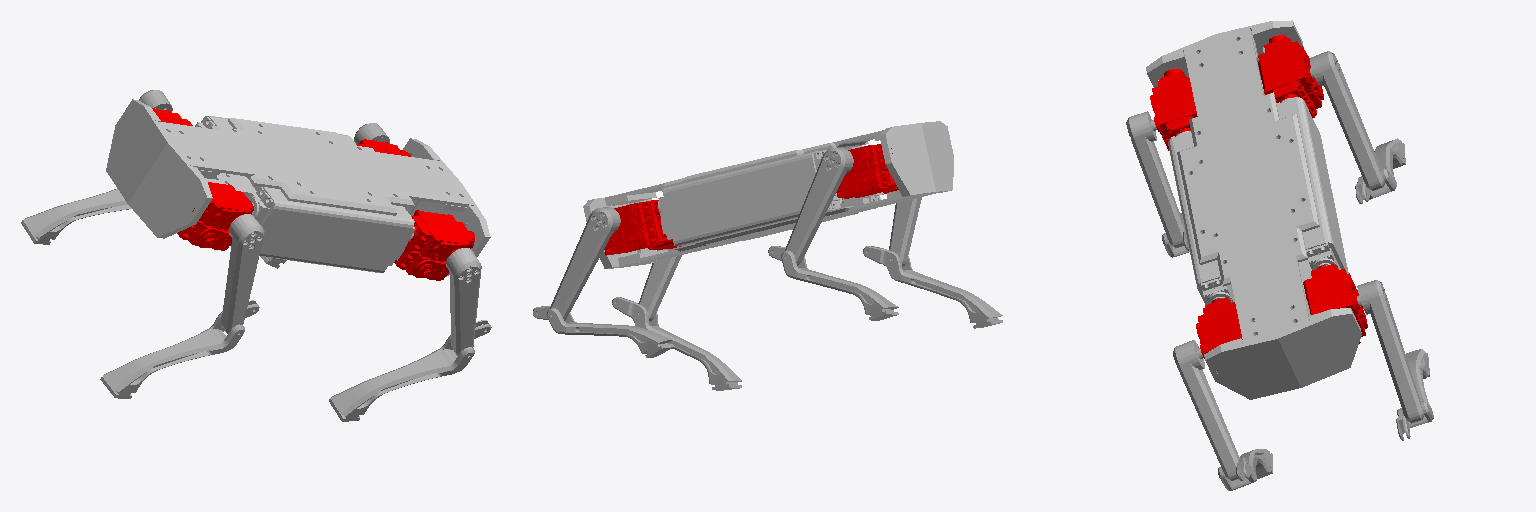
robot.urdf — final:
<?xml version="1.0" encoding="utf-8"?>
<!-- This URDF was automatically created by SolidWorks to URDF Exporter! Originally created by Stephen Brawner (brawner@gmail.com) 
     Commit Version: 1.6.0-4-g7f85cfe  Build Version: 1.6.7995.38578
     For more information, please see http://wiki.ros.org/sw_urdf_exporter -->
<robot
  name="final">
  <link
    name="base_link">
    <inertial>
      <origin
        xyz="0.165469810038744 -0.470844613530659 0.264323367068224"
        rpy="0 0 0" />
      <mass
        value="0.326547449294338" />
      <inertia
        ixx="0.00022012543357599"
        ixy="-3.25157823040541E-05"
        ixz="8.53231325640009E-05"
        iyy="0.000389271626814517"
        iyz="4.17514131573423E-06"
        izz="0.000383572282492682" />
    </inertial>
    <visual>
      <origin
        xyz="0 0 0"
        rpy="0 0 0" />
      <geometry>
        <mesh
          filename="package://final/meshes/base_link.STL" />
      </geometry>
      <material
        name="">
        <color
          rgba="0.8 0.8 0.8 1" />
      </material>
    </visual>
    <collision>
      <origin
        xyz="0 0 0"
        rpy="0 0 0" />
      <geometry>
        <mesh
          filename="package://final/meshes/base_link.STL" />
      </geometry>
    </collision>
  </link>
  <link
    name="hip_LF">
    <inertial>
      <origin
        xyz="0.0104971925588967 0.00114288562998305 0.0298079595716109"
        rpy="0 0 0" />
      <mass
        value="0.0691270861873928" />
      <inertia
        ixx="1.61613061385546E-05"
        ixy="4.07103755748429E-08"
        ixz="4.24918568404357E-08"
        iyy="1.14976725928124E-05"
        iyz="3.77855287804916E-10"
        izz="1.03221377280626E-05" />
    </inertial>
    <visual>
      <origin
        xyz="0 0 0"
        rpy="0 0 0" />
      <geometry>
        <mesh
          filename="package://final/meshes/hip_LF.STL" />
      </geometry>
      <material
        name="">
        <color
          rgba="1 0 0 1" />
      </material>
    </visual>
    <collision>
      <origin
        xyz="0 0 0"
        rpy="0 0 0" />
      <geometry>
        <mesh
          filename="package://final/meshes/hip_LF.STL" />
      </geometry>
    </collision>
  </link>
  <joint
    name="Joint1_LF"
    type="revolute">
    <origin
      xyz="0.0828037089815861 -0.530142263822002 0.293885901306255"
      rpy="-0.705882033003174 1.04313880299812 2.52448464320818" />
    <parent
      link="base_link" />
    <child
      link="hip_LF" />
    <axis
      xyz="0 0 1" />
    <limit
      lower="-1.57"
      upper="1.57"
      effort="1.5"
      velocity="6" />
  </joint>
  <link
    name="Thigh_LF">
    <inertial>
      <origin
        xyz="0.036049231921557 0.0174653680299302 0.0104420538930677"
        rpy="0 0 0" />
      <mass
        value="0.0136519262084262" />
      <inertia
        ixx="3.31852020596152E-06"
        ixy="-5.38341455745804E-06"
        ixz="-2.00095276413535E-07"
        iyy="1.18219158680877E-05"
        iyz="-9.69435485882886E-08"
        izz="1.46391765955793E-05" />
    </inertial>
    <visual>
      <origin
        xyz="0 0 0"
        rpy="0 0 0" />
      <geometry>
        <mesh
          filename="package://final/meshes/Thigh_LF.STL" />
      </geometry>
      <material
        name="">
        <color
          rgba="0.752941176470588 0.752941176470588 0.752941176470588 1" />
      </material>
    </visual>
    <collision>
      <origin
        xyz="0 0 0"
        rpy="0 0 0" />
      <geometry>
        <mesh
          filename="package://final/meshes/Thigh_LF.STL" />
      </geometry>
    </collision>
  </link>
  <joint
    name="Joint2_LF"
    type="revolute">
    <origin
      xyz="-0.000103830202143829 0.0255001128999754 0.0199"
      rpy="-1.5707963267949 0 0.00911492757548553" />
    <parent
      link="hip_LF" />
    <child
      link="Thigh_LF" />
    <axis
      xyz="0 0 1" />
    <limit
      lower="-1.57"
      upper="1.57"
      effort="1.5"
      velocity="6" />
  </joint>
  <link
    name="Calf_LF">
    <inertial>
      <origin
        xyz="0.0401260987407683 -0.0414799951379243 -0.00647647599601348"
        rpy="0 0 0" />
      <mass
        value="0.00886599216069645" />
      <inertia
        ixx="9.68776339211572E-06"
        ixy="7.17637478350545E-06"
        ixz="-1.47510177478865E-06"
        iyy="6.79566543555589E-06"
        iyz="1.75269858466389E-06"
        izz="1.51091944254587E-05" />
    </inertial>
    <visual>
      <origin
        xyz="0 0 0"
        rpy="0 0 0" />
      <geometry>
        <mesh
          filename="package://final/meshes/Calf_LF.STL" />
      </geometry>
      <material
        name="">
        <color
          rgba="0.698039215686274 0.698039215686274 0.698039215686274 1" />
      </material>
    </visual>
    <collision>
      <origin
        xyz="0 0 0"
        rpy="0 0 0" />
      <geometry>
        <mesh
          filename="package://final/meshes/Calf_LF.STL" />
      </geometry>
    </collision>
  </link>
  <joint
    name="Joint3_LF"
    type="revolute">
    <origin
      xyz="0.0899941947746462 0.0436009736916917 0.0238999999999975"
      rpy="0.155925725989217 0.0091149275754857 0" />
    <parent
      link="Thigh_LF" />
    <child
      link="Calf_LF" />
    <axis
      xyz="0.00911480136175463 -0.155288209919299 -0.987827157075667" />
    <limit
      lower="-1.57"
      upper="1.57"
      effort="1.5"
      velocity="6" />
  </joint>
  <link
    name="hip_LB">
    <inertial>
      <origin
        xyz="0.0105579816568965 -0.000156117223233665 0.0298079671863085"
        rpy="0 0 0" />
      <mass
        value="0.0691271473745254" />
      <inertia
        ixx="1.61287699978789E-05"
        ixy="3.90314406760061E-07"
        ixz="4.23415723559279E-08"
        iyy="1.15302191337999E-05"
        iyz="3.57533857898668E-09"
        izz="1.03221482000155E-05" />
    </inertial>
    <visual>
      <origin
        xyz="0 0 0"
        rpy="0 0 0" />
      <geometry>
        <mesh
          filename="package://final/meshes/hip_LB.STL" />
      </geometry>
      <material
        name="">
        <color
          rgba="1 0 0 1" />
      </material>
    </visual>
    <collision>
      <origin
        xyz="0 0 0"
        rpy="0 0 0" />
      <geometry>
        <mesh
          filename="package://final/meshes/hip_LB.STL" />
      </geometry>
    </collision>
  </link>
  <joint
    name="Joint1_LB"
    type="revolute">
    <origin
      xyz="0.256926339687758 -0.50176821300437 0.220696871077039"
      rpy="2.43571062058662 1.04313880299812 2.52448464320818" />
    <parent
      link="base_link" />
    <child
      link="hip_LB" />
    <axis
      xyz="0 0 1" />
    <limit
      lower="-1.57"
      upper="1.57"
      effort="1.5"
      velocity="6" />
  </joint>
  <link
    name="Thigh_LB">
    <inertial>
      <origin
        xyz="0.0326193945591627 0.0232499739951309 0.0104420540124198"
        rpy="0 0 0" />
      <mass
        value="0.0136519260871885" />
      <inertia
        ixx="5.33231907163393E-06"
        ixy="-6.48458904036276E-06"
        ixz="-1.81057556490647E-07"
        iyy="9.80811696276222E-06"
        iyz="-1.29051654755524E-07"
        izz="1.46391765553137E-05" />
    </inertial>
    <visual>
      <origin
        xyz="0 0 0"
        rpy="0 0 0" />
      <geometry>
        <mesh
          filename="package://final/meshes/Thigh_LB.STL" />
      </geometry>
      <material
        name="">
        <color
          rgba="0.752941176470588 0.752941176470588 0.752941176470588 1" />
      </material>
    </visual>
    <collision>
      <origin
        xyz="0 0 0"
        rpy="0 0 0" />
      <geometry>
        <mesh
          filename="package://final/meshes/Thigh_LB.STL" />
      </geometry>
    </collision>
  </link>
  <joint
    name="Joint2_LB"
    type="revolute">
    <origin
      xyz="0.0022793837699181 -0.0253982468305898 0.0398999999999235"
      rpy="1.5707963267949 0 0.0844627326260078" />
    <parent
      link="hip_LB" />
    <child
      link="Thigh_LB" />
    <axis
      xyz="0 0 1" />
    <limit
      lower="-1.57"
      upper="1.57"
      effort="1.5"
      velocity="6" />
  </joint>
  <link
    name="Calf_LB">
    <inertial>
      <origin
        xyz="0.0434144582663147 -0.0362416645314376 -0.0132047342874759"
        rpy="0 0 0" />
      <mass
        value="0.00886599097543363" />
      <inertia
        ixx="8.35490060908495E-06"
        ixy="7.49156789837758E-06"
        ixz="-3.18145822091588E-07"
        iyy="7.7854842397686E-06"
        iyz="2.98859091222109E-07"
        izz="1.54522350147211E-05" />
    </inertial>
    <visual>
      <origin
        xyz="0 0 0"
        rpy="0 0 0" />
      <geometry>
        <mesh
          filename="package://final/meshes/Calf_LB.STL" />
      </geometry>
      <material
        name="">
        <color
          rgba="0.698039215686274 0.698039215686274 0.698039215686274 1" />
      </material>
    </visual>
    <collision>
      <origin
        xyz="0 0 0"
        rpy="0 0 0" />
      <geometry>
        <mesh
          filename="package://final/meshes/Calf_LB.STL" />
      </geometry>
    </collision>
  </link>
  <joint
    name="Joint3_LB"
    type="revolute">
    <origin
      xyz="0.0814318625004756 0.0580418106742034 0.0239000001006261"
      rpy="0 0 0" />
    <parent
      link="Thigh_LB" />
    <child
      link="Calf_LB" />
    <axis
      xyz="0 0 1" />
    <limit
      lower="-1.57"
      upper="1.57"
      effort="1.5"
      velocity="6" />
  </joint>
  <link
    name="hip_RB">
    <inertial>
      <origin
        xyz="0.0105152983393906 0.000962152057977783 0.0298079667384993"
        rpy="0 0 0" />
      <mass
        value="0.0691271481987827" />
      <inertia
        ixx="1.61613287839617E-05"
        ixy="-3.95223532318152E-08"
        ixz="4.24921379767024E-08"
        iyy="1.14976603948052E-05"
        iyz="-3.53079302811498E-10"
        izz="1.03221482475351E-05" />
    </inertial>
    <visual>
      <origin
        xyz="0 0 0"
        rpy="0 0 0" />
      <geometry>
        <mesh
          filename="package://final/meshes/hip_RB.STL" />
      </geometry>
      <material
        name="">
        <color
          rgba="1 0 0 1" />
      </material>
    </visual>
    <collision>
      <origin
        xyz="0 0 0"
        rpy="0 0 0" />
      <geometry>
        <mesh
          filename="package://final/meshes/hip_RB.STL" />
      </geometry>
    </collision>
  </link>
  <joint
    name="Joint1_RB"
    type="revolute">
    <origin
      xyz="0.255423331114134 -0.416717792411357 0.250093587257239"
      rpy="2.43571062058662 1.04313880299812 2.52448464320818" />
    <parent
      link="base_link" />
    <child
      link="hip_RB" />
    <axis
      xyz="0 0 1" />
    <limit
      lower="-1.57"
      upper="1.57"
      effort="1.5"
      velocity="6" />
  </joint>
  <link
    name="Thigh_RB">
    <inertial>
      <origin
        xyz="-0.0297626679191992 0.0268098822119125 0.0104420535448091"
        rpy="0 0 0" />
      <mass
        value="0.0136519260994359" />
      <inertia
        ixx="6.8560637163697E-06"
        ixy="6.82261464884229E-06"
        ixz="1.65201136341496E-07"
        iyy="8.28437233088175E-06"
        iyz="-1.48811299803602E-07"
        izz="1.46391765371017E-05" />
    </inertial>
    <visual>
      <origin
        xyz="0 0 0"
        rpy="0 0 0" />
      <geometry>
        <mesh
          filename="package://final/meshes/Thigh_RB.STL" />
      </geometry>
      <material
        name="">
        <color
          rgba="0.698039215686274 0.698039215686274 0.698039215686274 1" />
      </material>
    </visual>
    <collision>
      <origin
        xyz="0 0 0"
        rpy="0 0 0" />
      <geometry>
        <mesh
          filename="package://final/meshes/Thigh_RB.STL" />
      </geometry>
    </collision>
  </link>
  <joint
    name="Joint2_RB"
    type="revolute">
    <origin
      xyz="0.000334819020600619 0.0254981261046049 0.039899999999996"
      rpy="1.57079632679489 0 3.13350548107536" />
    <parent
      link="hip_RB" />
    <child
      link="Thigh_RB" />
    <axis
      xyz="0 0 1" />
    <limit
      lower="-1.57"
      upper="1.57"
      effort="1.5"
      velocity="6" />
  </joint>
  <link
    name="Calf_RB">
    <inertial>
      <origin
        xyz="-0.0280790707628065 -0.0490900191801899 -0.0132047471017608"
        rpy="0 0 0" />
      <mass
        value="0.00886600238835247" />
      <inertia
        ixx="1.3176333780791E-05"
        ixy="-5.4892896357985E-06"
        ixz="1.94184703758847E-07"
        iyy="2.96407841651688E-06"
        iyz="3.90936953356937E-07"
        izz="1.54522604831644E-05" />
    </inertial>
    <visual>
      <origin
        xyz="0 0 0"
        rpy="0 0 0" />
      <geometry>
        <mesh
          filename="package://final/meshes/Calf_RB.STL" />
      </geometry>
      <material
        name="">
        <color
          rgba="0.698039215686274 0.698039215686274 0.698039215686274 1" />
      </material>
    </visual>
    <collision>
      <origin
        xyz="0 0 0"
        rpy="0 0 0" />
      <geometry>
        <mesh
          filename="package://final/meshes/Calf_RB.STL" />
      </geometry>
    </collision>
  </link>
  <joint
    name="Joint3_RB"
    type="revolute">
    <origin
      xyz="-0.0743002608384791 0.0669288520694507 0.0238999999999875"
      rpy="0 0 0" />
    <parent
      link="Thigh_RB" />
    <child
      link="Calf_RB" />
    <axis
      xyz="0 0 -1" />
    <limit
      lower="-1.57"
      upper="1.57"
      effort="1.5"
      velocity="6" />
  </joint>
  <link
    name="hip_RF">
    <inertial>
      <origin
        xyz="0.010399792151054 -0.00182747251492799 0.0298079563673649"
        rpy="0 0 0" />
      <mass
        value="0.0691270910624313" />
      <inertia
        ixx="1.61354149977582E-05"
        ixy="-3.48903802393308E-07"
        ixz="4.23730758507651E-08"
        iyy="1.15235643994676E-05"
        iyz="-3.18055827200527E-09"
        izz="1.03221383682477E-05" />
    </inertial>
    <visual>
      <origin
        xyz="0 0 0"
        rpy="0 0 0" />
      <geometry>
        <mesh
          filename="package://final/meshes/hip_RF.STL" />
      </geometry>
      <material
        name="">
        <color
          rgba="1 0 0 1" />
      </material>
    </visual>
    <collision>
      <origin
        xyz="0 0 0"
        rpy="0 0 0" />
      <geometry>
        <mesh
          filename="package://final/meshes/hip_RF.STL" />
      </geometry>
    </collision>
  </link>
  <joint
    name="Joint1_RF"
    type="revolute">
    <origin
      xyz="0.081301 -0.44509 0.32328"
      rpy="-0.70588 1.0431 2.5245" />
    <parent
      link="base_link" />
    <child
      link="hip_RF" />
    <axis
      xyz="0 0 1" />
    <limit
      lower="-1.57"
      upper="1.57"
      effort="1.5"
      velocity="6" />
  </joint>
  <link
    name="Thigh_RF">
    <inertial>
      <origin
        xyz="0.0312504715443228 -0.025059812769555 0.0104420535390137"
        rpy="0 0 0" />
      <mass
        value="0.0136519260754069" />
      <inertia
        ixx="6.07990050362183E-06"
        ixy="6.69604664888914E-06"
        ixz="-1.73459359160551E-07"
        iyy="9.06053553528023E-06"
        iyz="1.39097339273018E-07"
        izz="1.46391765281475E-05" />
    </inertial>
    <visual>
      <origin
        xyz="0 0 0"
        rpy="0 0 0" />
      <geometry>
        <mesh
          filename="package://final/meshes/Thigh_RF.STL" />
      </geometry>
      <material
        name="">
        <color
          rgba="0.698039215686274 0.698039215686274 0.698039215686274 1" />
      </material>
    </visual>
    <collision>
      <origin
        xyz="0 0 0"
        rpy="0 0 0" />
      <geometry>
        <mesh
          filename="package://final/meshes/Thigh_RF.STL" />
      </geometry>
    </collision>
  </link>
  <joint
    name="Joint2_RF"
    type="revolute">
    <origin
      xyz="-0.0017748 -0.025438 0.0199"
      rpy="1.5708 0 -0.074698" />
    <parent
      link="hip_RF" />
    <child
      link="Thigh_RF" />
    <axis
      xyz="0 0 1" />
    <limit
      lower="-1.57"
      upper="1.57"
      effort="1.5"
      velocity="6" />
  </joint>
  <link
    name="Calf_RF">
    <inertial>
      <origin
        xyz="0.037086446197333 0.0426949252378612 -0.0132047524388045"
        rpy="0 0 0" />
      <mass
        value="0.00886601403821361" />
      <inertia
        ixx="1.06969039301481E-05"
        ixy="-7.0217852884141E-06"
        ixz="-2.6647888676383E-07"
        iyy="5.44352564282259E-06"
        iyz="-3.45732127944208E-07"
        izz="1.54522763111769E-05" />
    </inertial>
    <visual>
      <origin
        xyz="0 0 0"
        rpy="0 0 0" />
      <geometry>
        <mesh
          filename="package://final/meshes/Calf_RF.STL" />
      </geometry>
      <material
        name="">
        <color
          rgba="0.698039215686274 0.698039215686274 0.698039215686274 1" />
      </material>
    </visual>
    <collision>
      <origin
        xyz="0 0 0"
        rpy="0 0 0" />
      <geometry>
        <mesh
          filename="package://final/meshes/Calf_RF.STL" />
      </geometry>
    </collision>
  </link>
  <joint
    name="Joint3_RF"
    type="revolute">
    <origin
      xyz="0.078014 -0.06256 0.0239"
      rpy="0 0 0" />
    <parent
      link="Thigh_RF" />
    <child
      link="Calf_RF" />
    <axis
      xyz="0 0 -1" />
    <limit
      lower="-1.57"
      upper="1.57"
      effort="1.5"
      velocity="6" />
  </joint>
</robot>

--- Facts derived from the render (not from the file) ---
The picture shows the robot from 3 angles, left to right: view 1: azimuth 30°, elevation 25°; view 2: azimuth 150°, elevation 25°; view 3: azimuth 270°, elevation 25°; orthographic projection.
Model final with 13 links and 12 joints (12 revolute), rooted at base_link, posed every joint at zero.
Visible links, largest first — view 1: base_link, Calf_LB, Calf_LF, hip_LB, Thigh_LF, Thigh_LB, hip_LF, Calf_RF; view 2: base_link, Thigh_RF, Thigh_RB, Calf_LF, hip_RB, Calf_RF, Calf_LB, Calf_RB, hip_RF, Thigh_LB, Thigh_LF; view 3: base_link, Thigh_RF, Thigh_RB, hip_RF, Thigh_LB, Thigh_LF, hip_LF, hip_RB, hip_LB, Calf_RF, Calf_RB, Calf_LB.
Boxes of the visible links, bbox=[...] form: base_link: bbox=[106, 99, 490, 276]; Calf_LB: bbox=[329, 320, 491, 421]; Calf_LF: bbox=[100, 300, 259, 398]; hip_LB: bbox=[394, 210, 474, 280]; Thigh_LF: bbox=[221, 214, 264, 333]; Thigh_LB: bbox=[446, 248, 481, 355]; hip_LF: bbox=[177, 182, 253, 250]; Calf_RF: bbox=[21, 188, 131, 244]; base_link: bbox=[583, 121, 953, 268]; Thigh_RF: bbox=[785, 148, 853, 265]; Thigh_RB: bbox=[550, 207, 620, 320]; Calf_LF: bbox=[863, 246, 1002, 328]; hip_RB: bbox=[604, 200, 668, 255]; Calf_RF: bbox=[768, 246, 898, 320]; Calf_LB: bbox=[612, 297, 741, 390]; Calf_RB: bbox=[533, 306, 673, 357]; hip_RF: bbox=[836, 144, 896, 198]; Thigh_LB: bbox=[638, 246, 681, 321]; Thigh_LF: bbox=[889, 197, 921, 266]; base_link: bbox=[1146, 20, 1361, 399]; Thigh_RF: bbox=[1310, 51, 1384, 190]; Thigh_RB: bbox=[1357, 280, 1424, 423]; hip_RF: bbox=[1258, 35, 1323, 117]; Thigh_LB: bbox=[1173, 340, 1239, 480]; Thigh_LF: bbox=[1126, 111, 1184, 248]; hip_LF: bbox=[1150, 69, 1197, 150]; hip_RB: bbox=[1303, 264, 1367, 343]; hip_LB: bbox=[1196, 297, 1242, 358]; Calf_RF: bbox=[1355, 138, 1405, 203]; Calf_RB: bbox=[1396, 349, 1433, 440]; Calf_LB: bbox=[1218, 449, 1272, 490].
Size in the robot's own frame: 0.3965 by 0.2494 by 0.3225 metres.
Meshes: 13 distinct files referenced, 13 mesh visuals loaded (13 binary STL).
